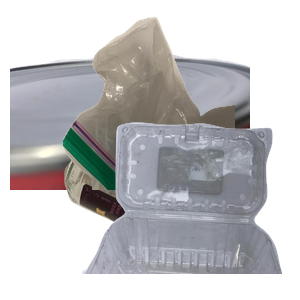glass: (62, 120, 300, 300)
metal: (10, 52, 250, 232)
plastic: (80, 120, 300, 300)
trash: (60, 14, 300, 194)
